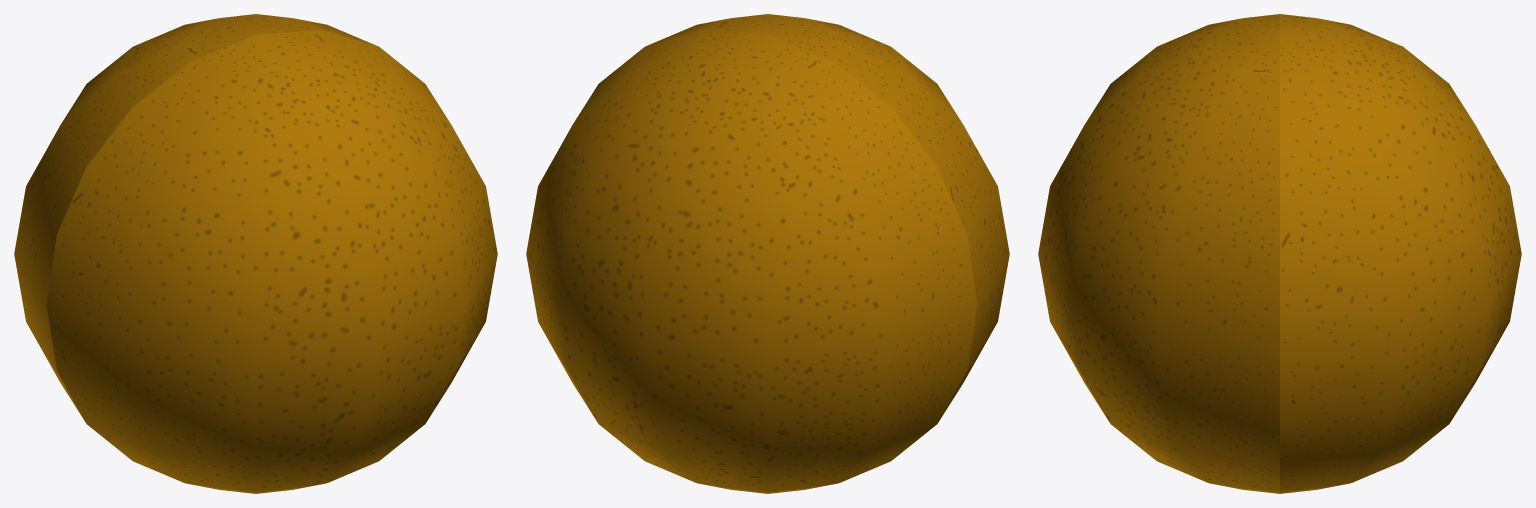
File: Naranaja-1_1.obj
3 views of the same model, side by side, from view 1: azimuth 30°, elevation 25°; view 2: azimuth 150°, elevation 25°; view 3: azimuth 270°, elevation 25° (orthographic).
Visible parts, largest first — view 1: Naranaja-1_1_Sphere.001; view 2: Naranaja-1_1_Sphere.001; view 3: Naranaja-1_1_Sphere.001.
Boxes of the visible parts, x1=… form: Naranaja-1_1_Sphere.001: x1=14, y1=14, x2=497, y2=493; Naranaja-1_1_Sphere.001: x1=526, y1=14, x2=1009, y2=493; Naranaja-1_1_Sphere.001: x1=1038, y1=14, x2=1521, y2=493.
Size of the model in its own units: 2 by 2 by 2.
Materials: 1 (1 with a texture image).
